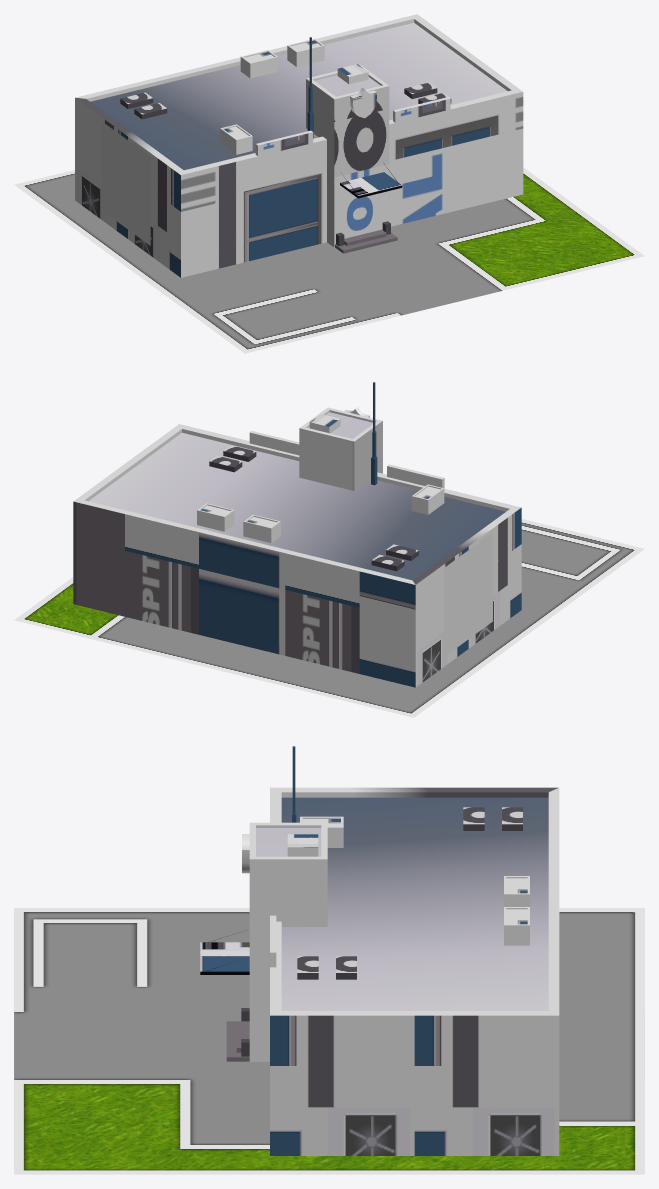
Rendered from Police_Lvl_1.fbx.
3 renders of one model, top to bottom at view 1: azimuth 30°, elevation 25°; view 2: azimuth 150°, elevation 25°; view 3: azimuth 270°, elevation 25°, orthographic. The views are drawn at different scales.
Parts seen in each view (by area): view 1: Police_Lvl_1, Police_BG, Graffiti_001; view 2: Police_Lvl_1, Police_BG, Graffiti_001; view 3: Police_Lvl_1, Police_BG.
Part boxes in pixels (x1=…): Police_Lvl_1: x1=75, y1=14, x2=523, y2=277; Police_BG: x1=14, y1=167, x2=644, y2=353; Graffiti_001: x1=101, y1=121, x2=150, y2=245; Police_Lvl_1: x1=73, y1=382, x2=521, y2=687; Police_BG: x1=14, y1=519, x2=644, y2=717; Graffiti_001: x1=444, y1=532, x2=492, y2=656; Police_Lvl_1: x1=200, y1=746, x2=559, y2=1155; Police_BG: x1=14, y1=908, x2=644, y2=1174.
Size of the model in its own units: 2000 by 956 by 2000.
